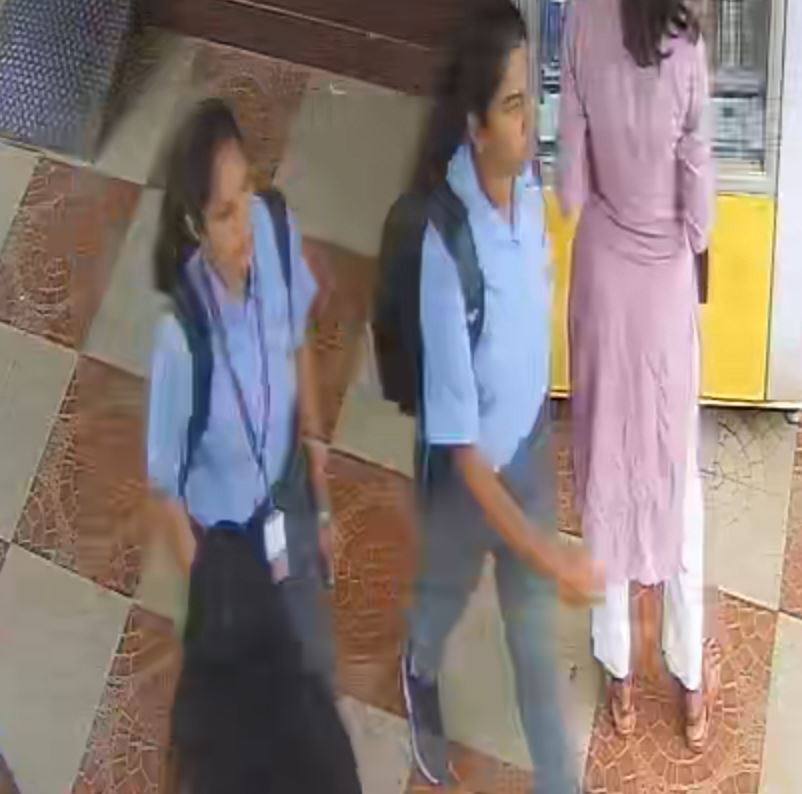intruder: (123, 100, 360, 794)
not intruder: (377, 11, 583, 794)
